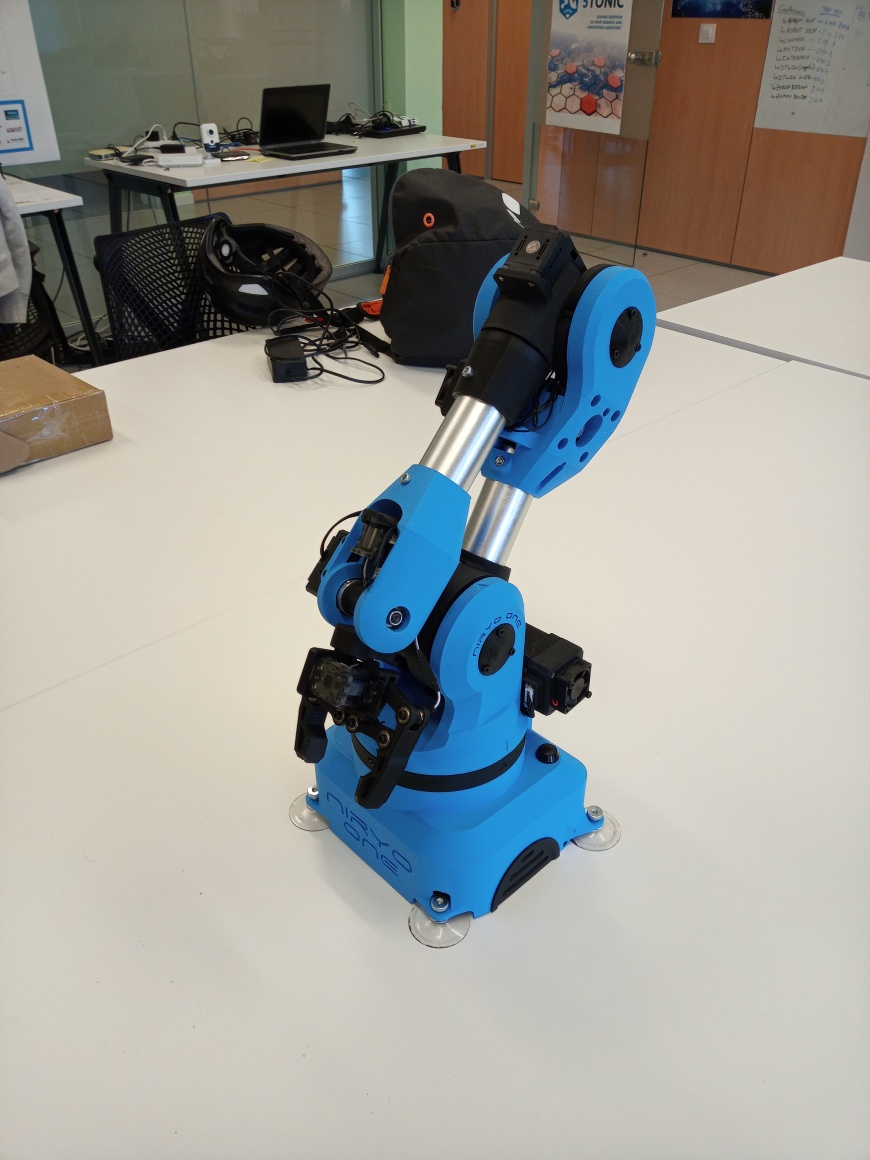robot: (289, 231, 658, 951)
